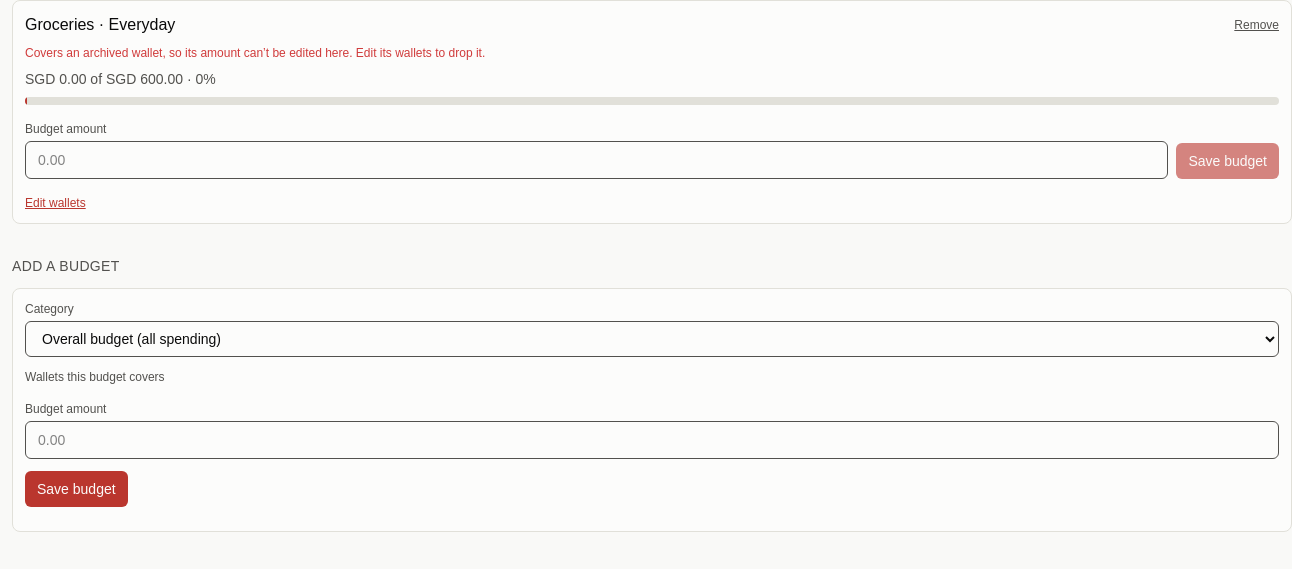
it: BudgetList — Remove › surfaces a Remove failure in its OWN row's alert, named for that row
Click the button with aria-label "Remove budget for Groceries · Everyday". click: coordinates (1257, 25)
box: [1234, 17, 1279, 33]
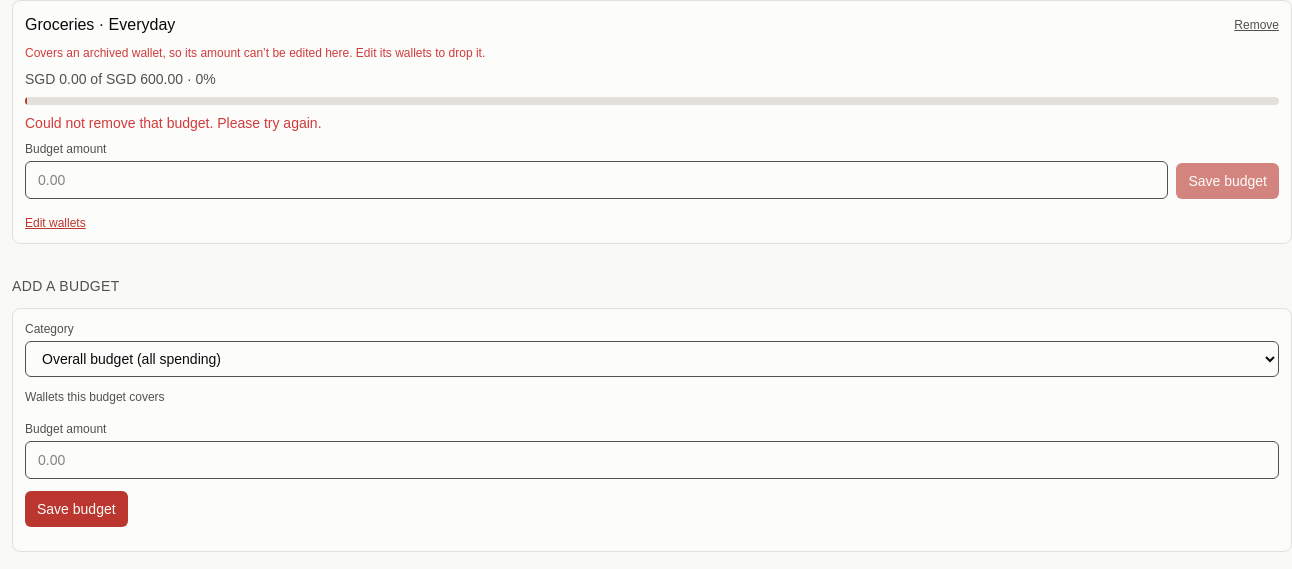
Expected: the message named "Error for Groceries · Everyday" reads "Could not remove that budget. Please try again.", [25, 115, 322, 131]
